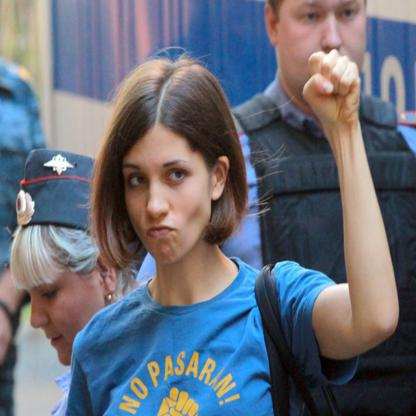face: (123, 119, 215, 260), (26, 251, 104, 365), (283, 2, 368, 106)
